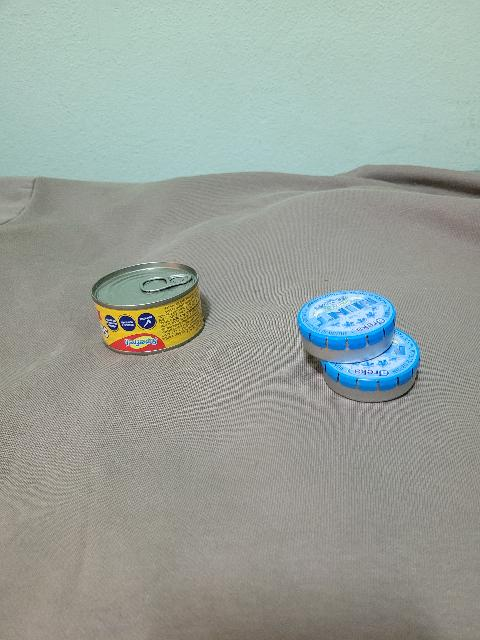Metal: (88, 260, 209, 352), (317, 328, 421, 403), (295, 288, 394, 356)
